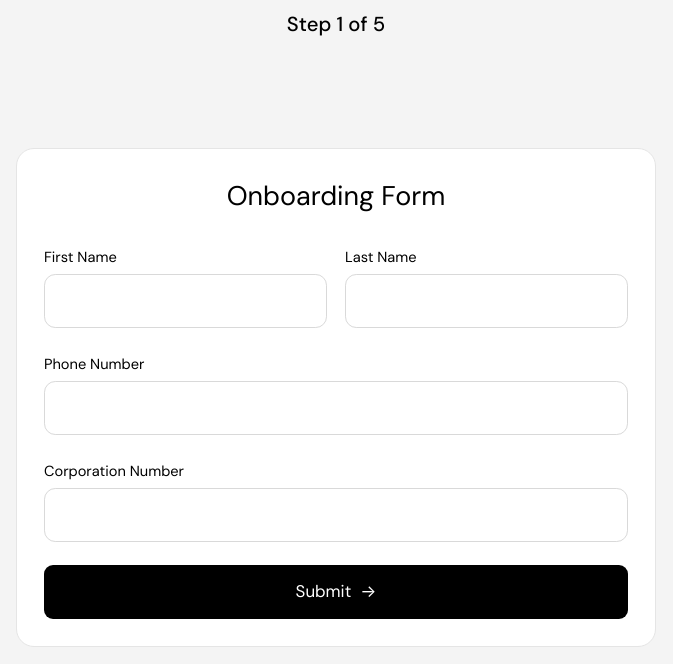
Test case: OnboardingPage › allows only digits in the corporation number
The width and height of the screenshot is (673, 664).
In the field labelled "Corporation Number": (336, 515) [44,488,628,542], type "8a2-6 4.1#7395"
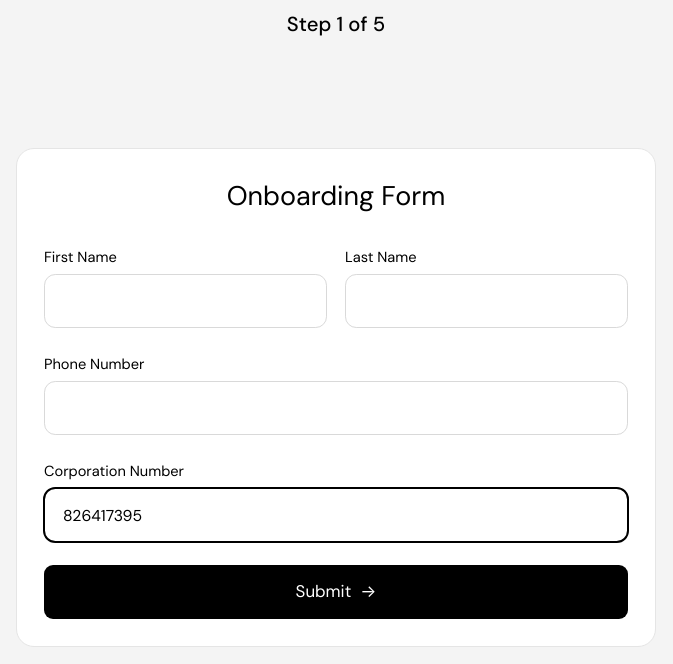
Result: the field labelled "Corporation Number" holds "826417395" at [44,488,628,542]
